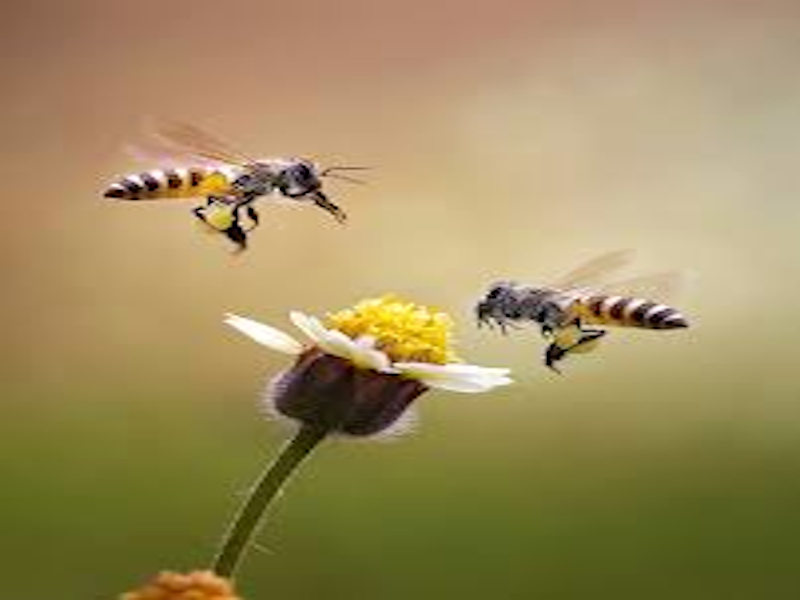abeja: (82, 102, 373, 264), (461, 245, 709, 390)
